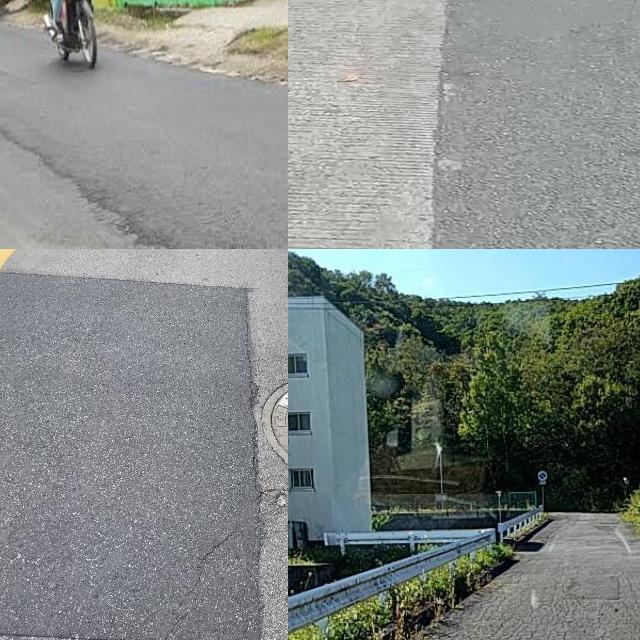Sambungan: (0, 272, 263, 640), (288, 0, 446, 249)
